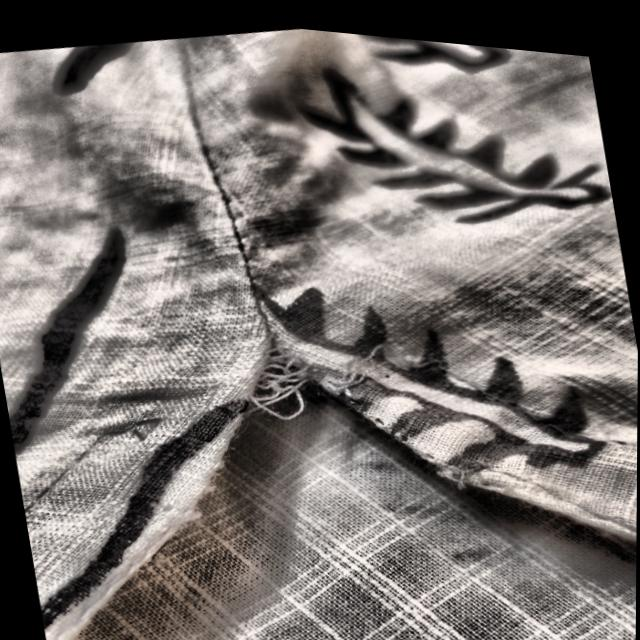Stitch: (212, 278, 433, 444)
